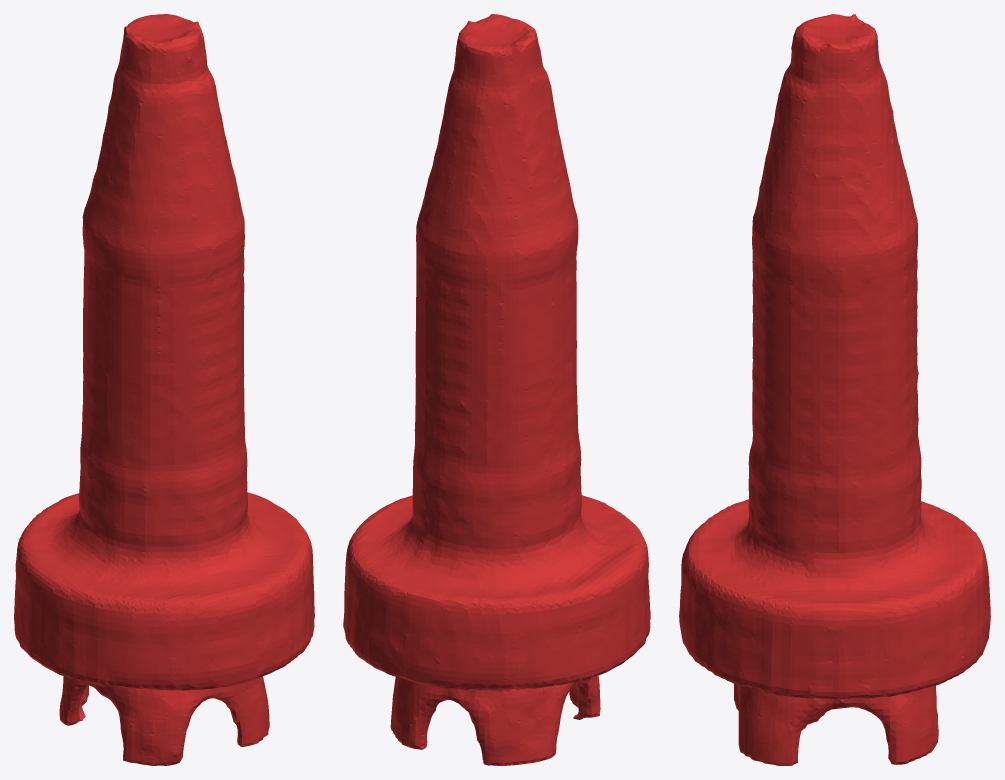
File: surmark950410.dae
3 views of the same model, side by side, from view 1: azimuth 30°, elevation 25°; view 2: azimuth 150°, elevation 25°; view 3: azimuth 270°, elevation 25° (orthographic).
Parts seen in each view (by area): view 1: red_summark; view 2: red_summark; view 3: red_summark.
Part boxes in pixels (left/top/right/bottom): red_summark: left=14, top=14, right=314, bottom=765; red_summark: left=343, top=14, right=650, bottom=765; red_summark: left=679, top=14, right=990, bottom=765.
Bounding box in the file's own units: 0.4916 × 0.5 × 1.25.
